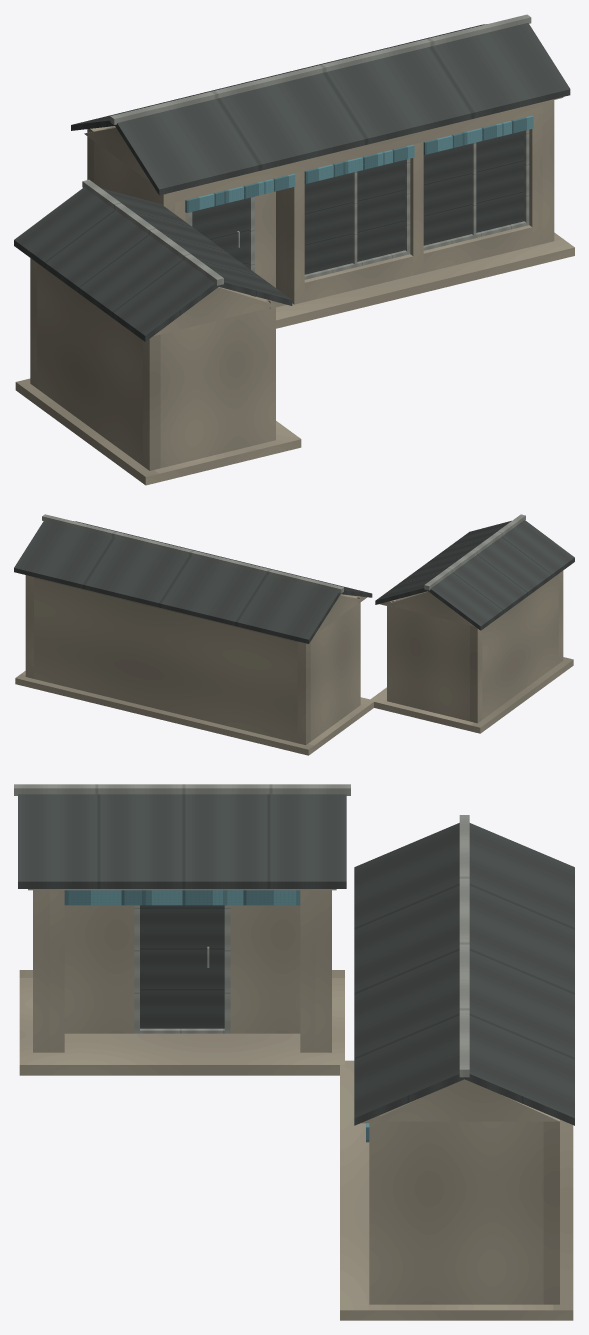
Rendered from kingston.glb.
3 views of the same model, one above another, from view 1: azimuth 30°, elevation 25°; view 2: azimuth 150°, elevation 25°; view 3: azimuth 270°, elevation 25° (orthographic). The views are drawn at different scales.
Visible parts, largest first — view 1: kingston; view 2: kingston; view 3: kingston.
Boxes of the visible parts, x1,y1,x2,y2 form: kingston: (14,14,574,485); kingston: (14,514,574,755); kingston: (14,784,574,1320).
Size of the model in its own units: 8.6 by 2.96 by 5.94.
Materials: 1 (1 with a texture image).
